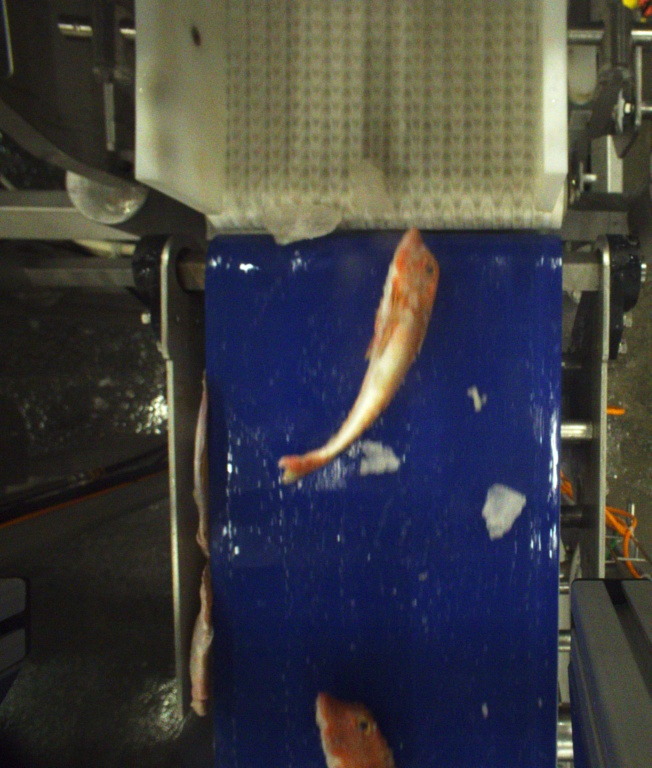GUU: (275, 224, 440, 488)
